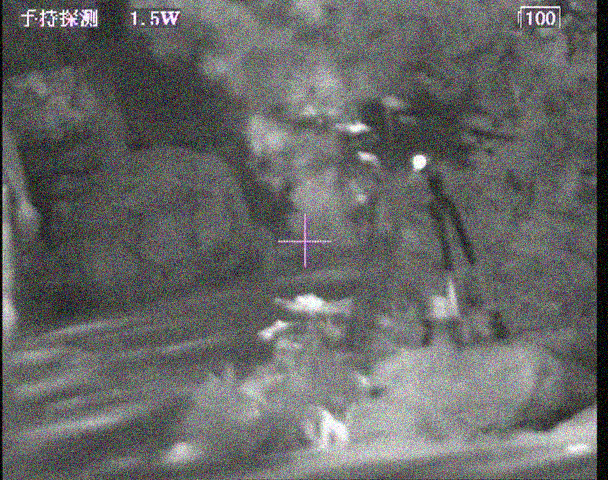my: (410, 154, 426, 170)
